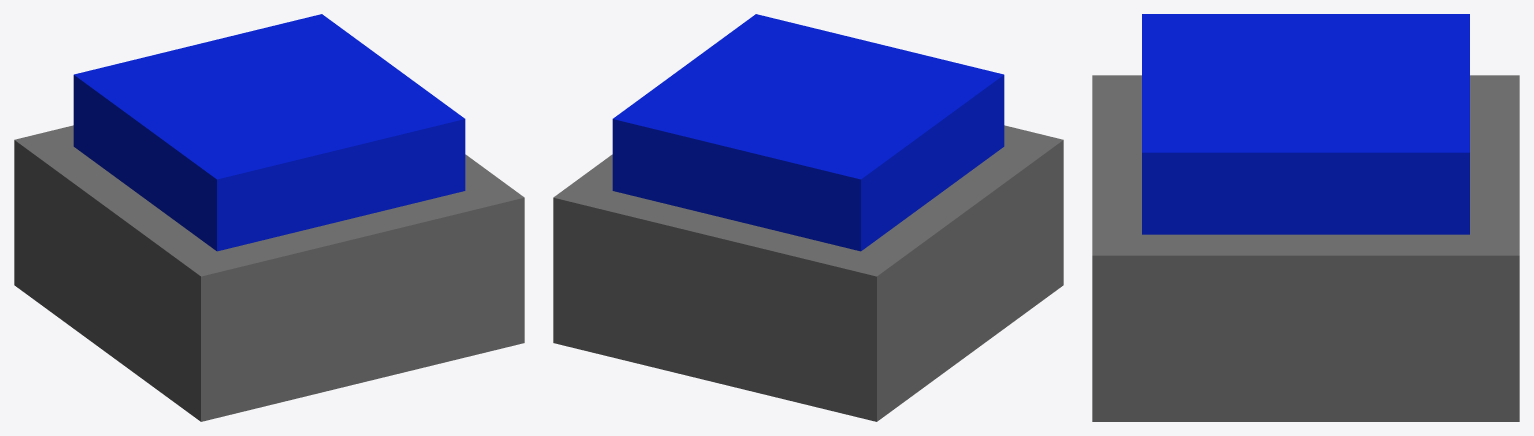
File: pod_button_land.glb
3 renders of one model, left to right at view 1: azimuth 30°, elevation 25°; view 2: azimuth 150°, elevation 25°; view 3: azimuth 270°, elevation 25°, orthographic. The views are drawn at different scales.
Visible parts, largest first — view 1: pod_button_lunch, pod_button_lunch.002; view 2: pod_button_lunch, pod_button_lunch.002; view 3: pod_button_lunch, pod_button_lunch.002.
Part boxes in pixels (bbox=[...]): pod_button_lunch: bbox=[14, 125, 524, 421]; pod_button_lunch.002: bbox=[73, 14, 465, 251]; pod_button_lunch: bbox=[553, 125, 1063, 421]; pod_button_lunch.002: bbox=[612, 14, 1004, 251]; pod_button_lunch: bbox=[1092, 75, 1519, 421]; pod_button_lunch.002: bbox=[1142, 14, 1469, 234].
Bounding box in the file's own units: 0.2166 × 0.139 × 0.2166.
